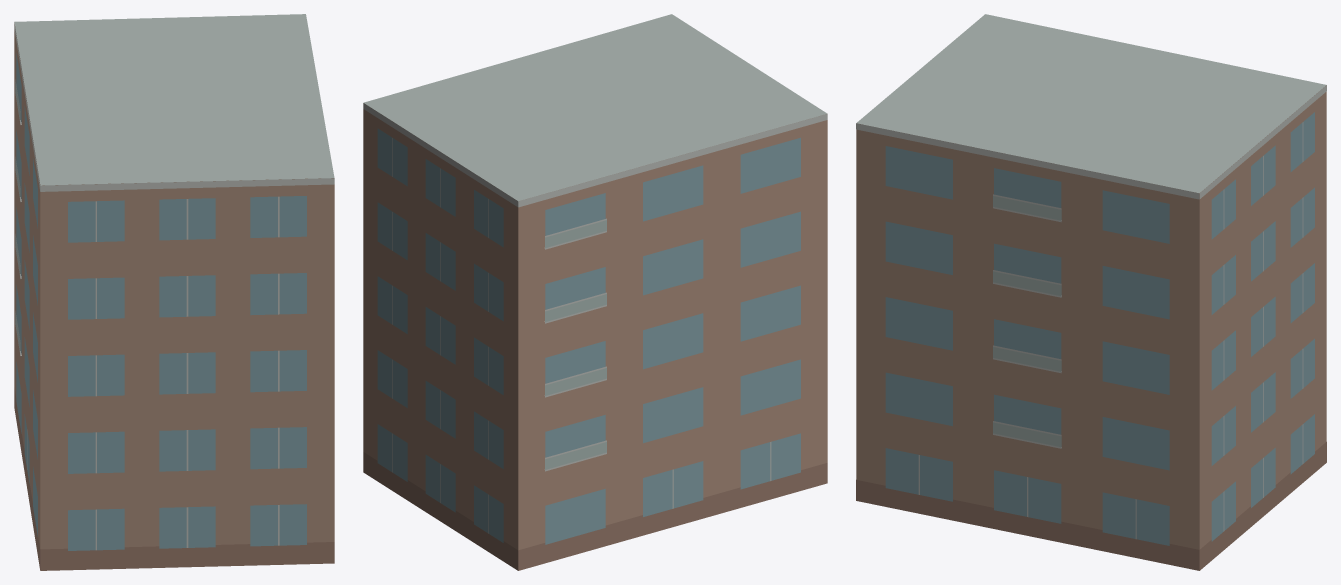
File: survey-upis-32941137.glb
3 renders of one model, left to right at view 1: azimuth 30°, elevation 25°; view 2: azimuth 150°, elevation 25°; view 3: azimuth 270°, elevation 25°, orthographic. The views are drawn at different scales.
Parts seen in each view (by area): view 1: survey-upis-32941137.tmp; view 2: survey-upis-32941137.tmp; view 3: survey-upis-32941137.tmp.
Part boxes in pixels (x1,y1,x2,y2): survey-upis-32941137.tmp: (14,14,334,570); survey-upis-32941137.tmp: (363,14,827,570); survey-upis-32941137.tmp: (856,14,1326,570).
Bounding box in the file's own units: 14.87 × 14.6 × 16.5.
